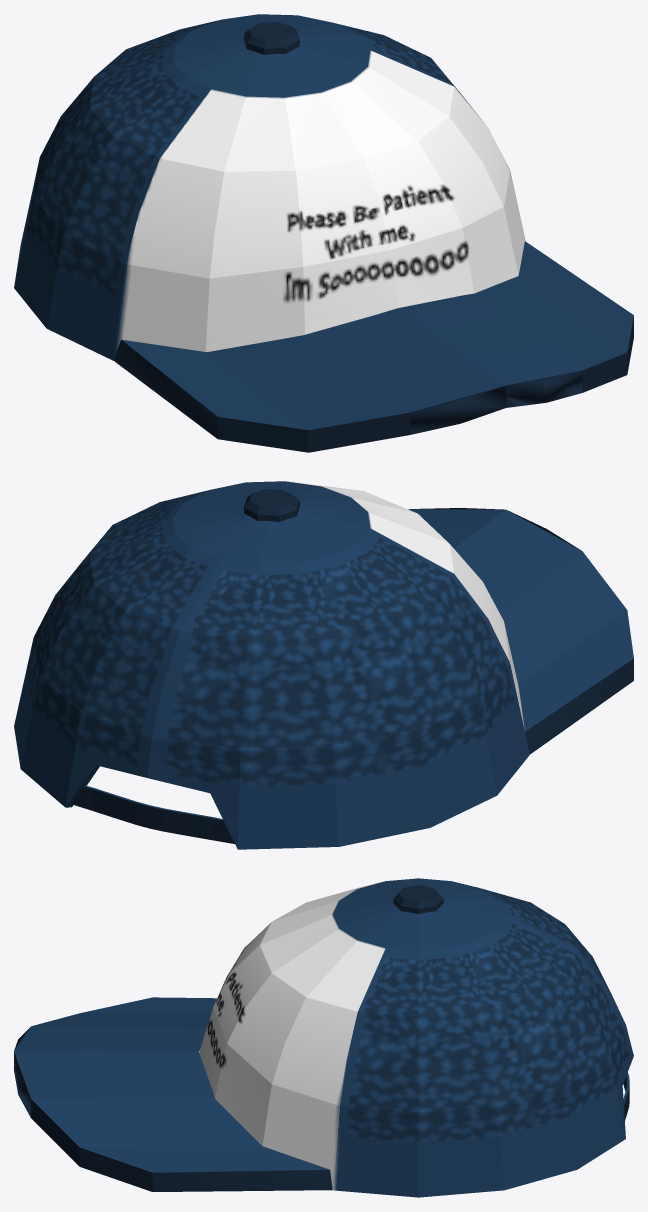
The model's file is hat_trucker_cap.glb.
3 renders of one model, top to bottom at view 1: azimuth 30°, elevation 25°; view 2: azimuth 150°, elevation 25°; view 3: azimuth 270°, elevation 25°, orthographic. The views are drawn at different scales.
Parts seen in each view (by area): view 1: Hatmodel; view 2: Hatmodel; view 3: Hatmodel.
Boxes of the visible parts, left/top/right/bottom form: Hatmodel: left=14, top=14, right=633, bottom=452; Hatmodel: left=14, top=481, right=633, bottom=849; Hatmodel: left=14, top=878, right=633, bottom=1197.
Size of the model in its own units: 5.13 by 2.66 by 7.08.
Materials: 2 (2 with a texture image).
